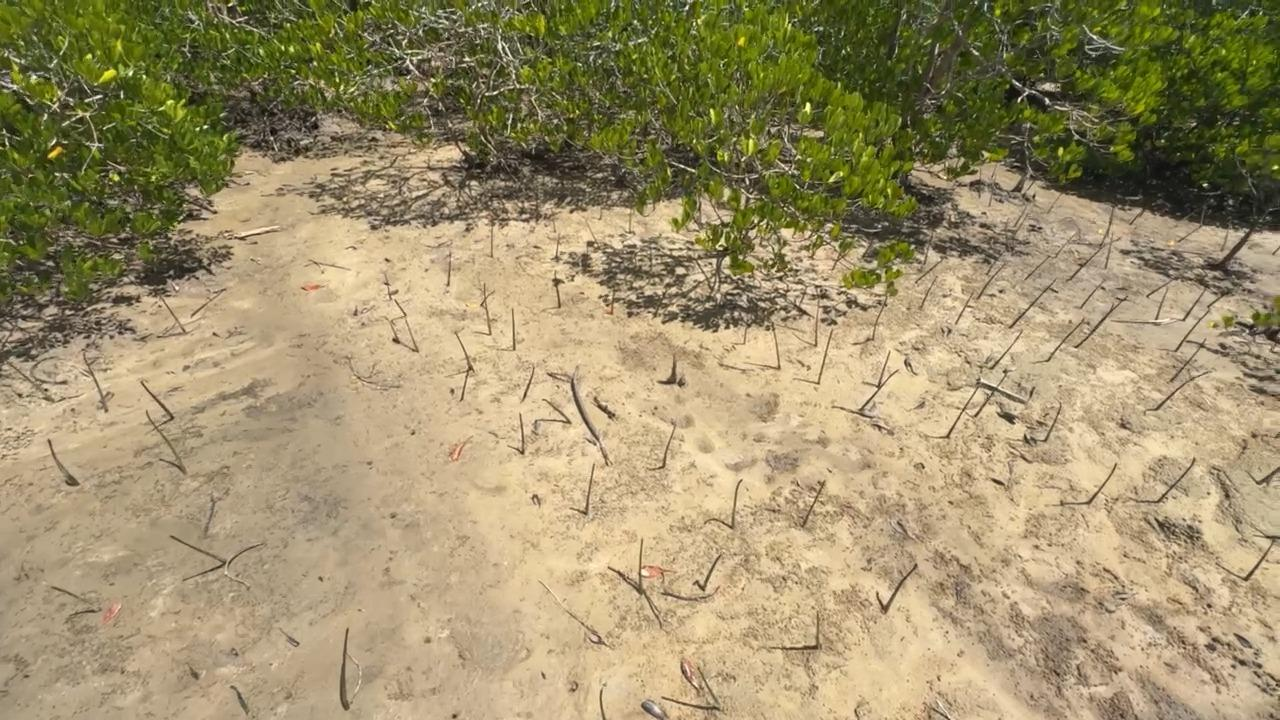Tree: (146, 409, 186, 473), (1008, 279, 1057, 329), (1155, 370, 1213, 410), (6, 361, 55, 402), (1074, 302, 1115, 348), (1156, 457, 1196, 503), (946, 385, 980, 438), (169, 533, 227, 564), (1046, 317, 1085, 362), (883, 562, 918, 612), (858, 369, 899, 411), (1169, 338, 1207, 381), (872, 281, 899, 340), (82, 352, 108, 413), (46, 438, 79, 485), (974, 371, 1007, 417), (1243, 538, 1275, 581), (989, 329, 1023, 369), (1175, 311, 1209, 351), (140, 380, 174, 419), (1088, 462, 1118, 505), (50, 586, 98, 611), (1070, 245, 1105, 279), (801, 480, 826, 527), (976, 263, 1006, 300), (159, 294, 185, 332), (697, 666, 721, 704), (831, 234, 856, 270), (818, 328, 833, 385), (340, 627, 350, 711), (1183, 287, 1207, 321), (1044, 397, 1061, 442), (541, 398, 571, 423), (1080, 279, 1105, 308), (703, 553, 722, 590), (454, 331, 472, 370), (662, 421, 677, 467), (915, 259, 943, 283), (731, 478, 744, 528), (1024, 255, 1050, 280), (918, 276, 937, 310), (1099, 206, 1115, 246), (584, 463, 596, 514), (1101, 296, 1126, 320), (955, 292, 973, 325), (1046, 188, 1068, 214), (230, 685, 249, 714), (1055, 232, 1076, 258), (520, 367, 535, 403), (877, 350, 891, 387), (380, 315, 399, 342), (1146, 278, 1173, 297), (404, 318, 419, 352), (985, 250, 1005, 275), (483, 283, 492, 335), (1155, 287, 1169, 320), (771, 321, 780, 369), (1178, 226, 1204, 242), (1258, 466, 1280, 484), (1104, 232, 1114, 269), (1014, 212, 1030, 235), (922, 232, 933, 265), (638, 537, 644, 594), (279, 628, 299, 645), (1013, 204, 1027, 228), (585, 219, 598, 244), (1129, 207, 1146, 225), (518, 413, 525, 455), (988, 174, 997, 206), (1206, 293, 1225, 308), (814, 610, 821, 650), (554, 269, 561, 308), (480, 290, 495, 307), (383, 272, 392, 300), (815, 299, 820, 347), (393, 299, 407, 316), (185, 662, 199, 679), (599, 687, 606, 720), (1220, 229, 1230, 251), (511, 308, 516, 350), (670, 354, 677, 383), (447, 250, 452, 286), (1199, 205, 1206, 227), (555, 233, 561, 258), (490, 225, 494, 258), (978, 167, 982, 198), (610, 288, 614, 315), (628, 209, 632, 233), (991, 162, 997, 178), (552, 209, 556, 232), (743, 322, 747, 345), (1272, 245, 1280, 255), (1227, 215, 1231, 230), (600, 205, 602, 219)
